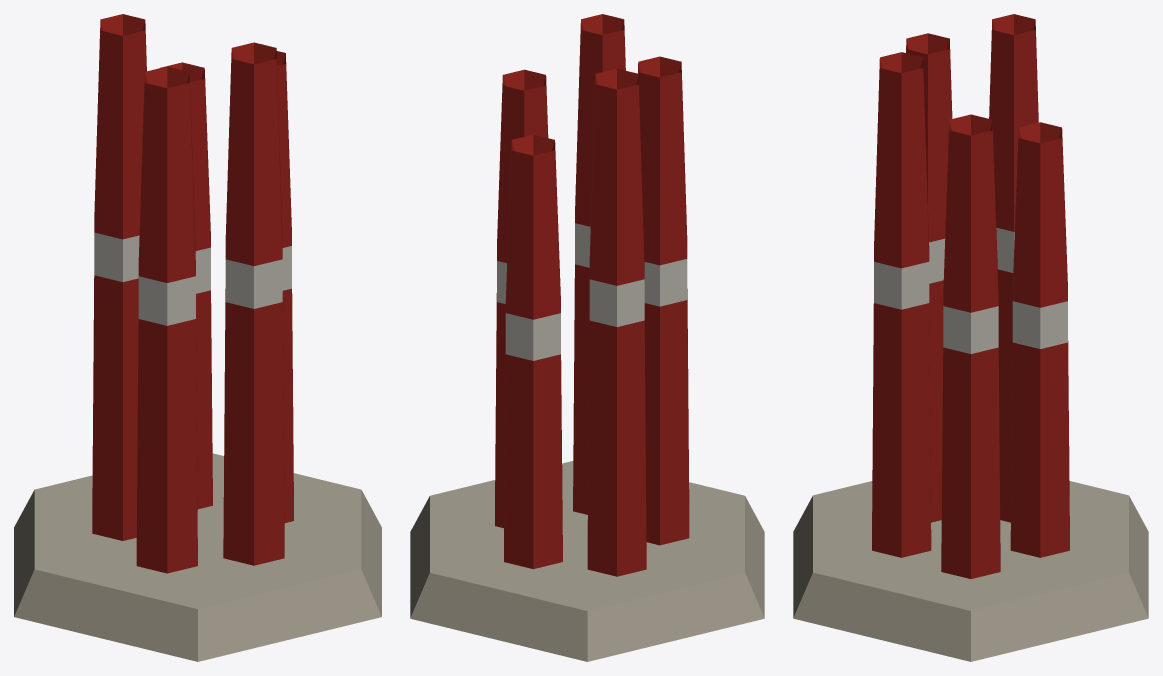
Rendered from tugu-bambu-runcing-lod2.glb.
The picture shows the model from 3 angles, left to right: view 1: azimuth 30°, elevation 25°; view 2: azimuth 150°, elevation 25°; view 3: azimuth 270°, elevation 25°; orthographic projection. The views are drawn at different scales.
Parts seen in each view (by area): view 1: tugu-bambu-runcing_LOD2; view 2: tugu-bambu-runcing_LOD2; view 3: tugu-bambu-runcing_LOD2.
Boxes of the visible parts, x1,y1,x2,y2 form: tugu-bambu-runcing_LOD2: (14,14,381,661); tugu-bambu-runcing_LOD2: (410,14,764,661); tugu-bambu-runcing_LOD2: (793,14,1148,661).
Bounding box in the file's own units: 9 × 12.72 × 7.79.
